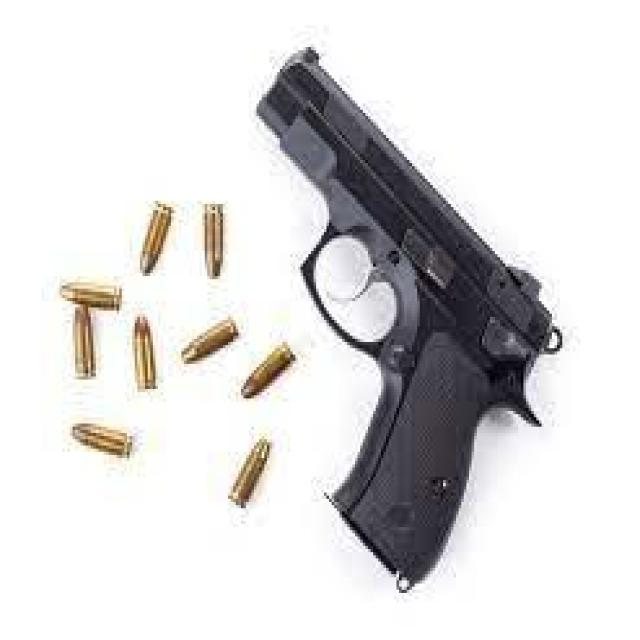gun: (253, 47, 565, 596)
